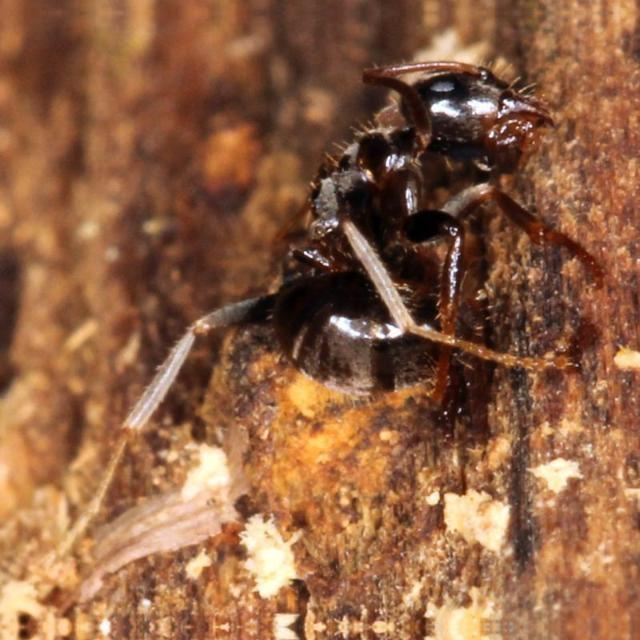Lasius: (118, 11, 590, 428)
